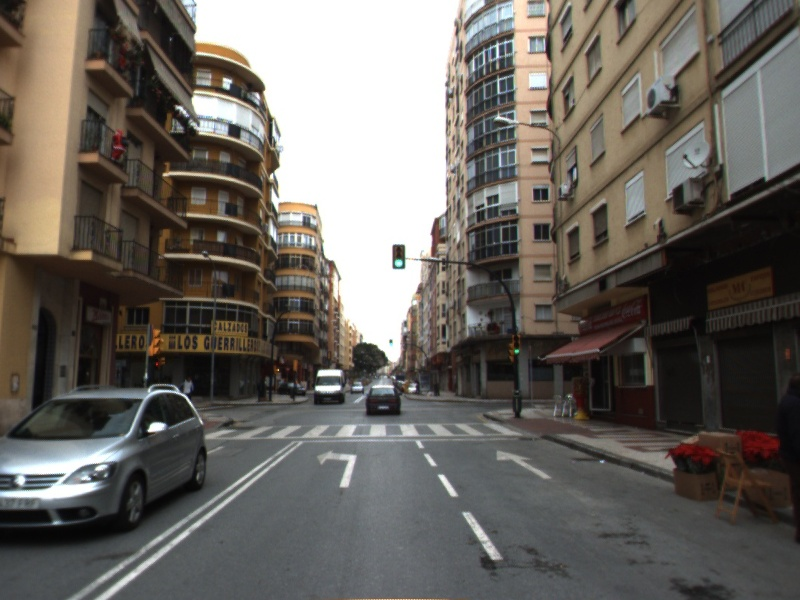LEFT: (315, 448, 359, 490)
STRAIGHT: (495, 448, 554, 481)
